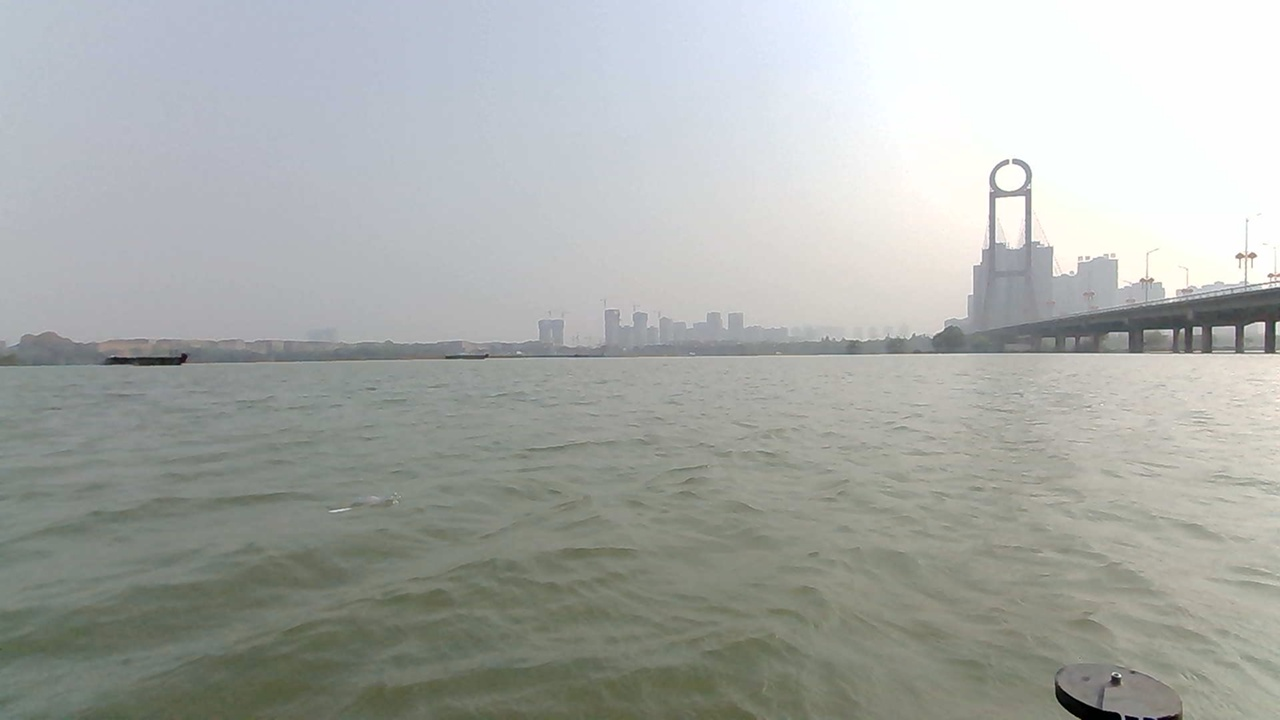bottle: (320, 501, 456, 559)
